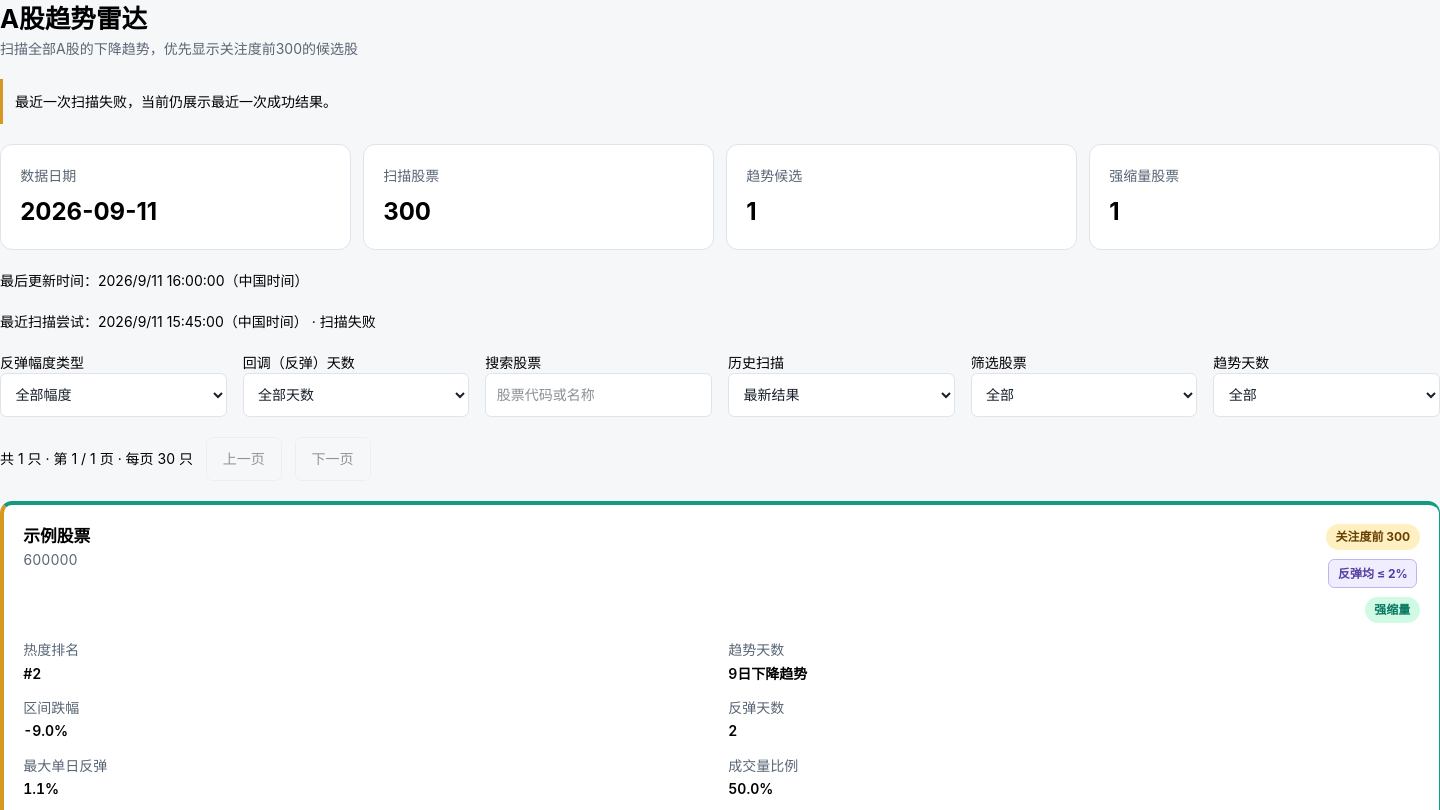
Scenario: Trend Radar › keeps the last successful dataset when the latest scan fails, with Chinese labels
Expected: the link "示例股票" is shown, x1=23 y1=526 x2=90 y2=546
Expected: the text "最近一次扫描失败，当前仍展示最近一次成功结果。" is shown, x1=0 y1=79 x2=1439 y2=124
Select "7日趋势" in the dropdown labelled "趋势天数" at (1327, 395), box x1=1213 y1=373 x2=1439 y2=417
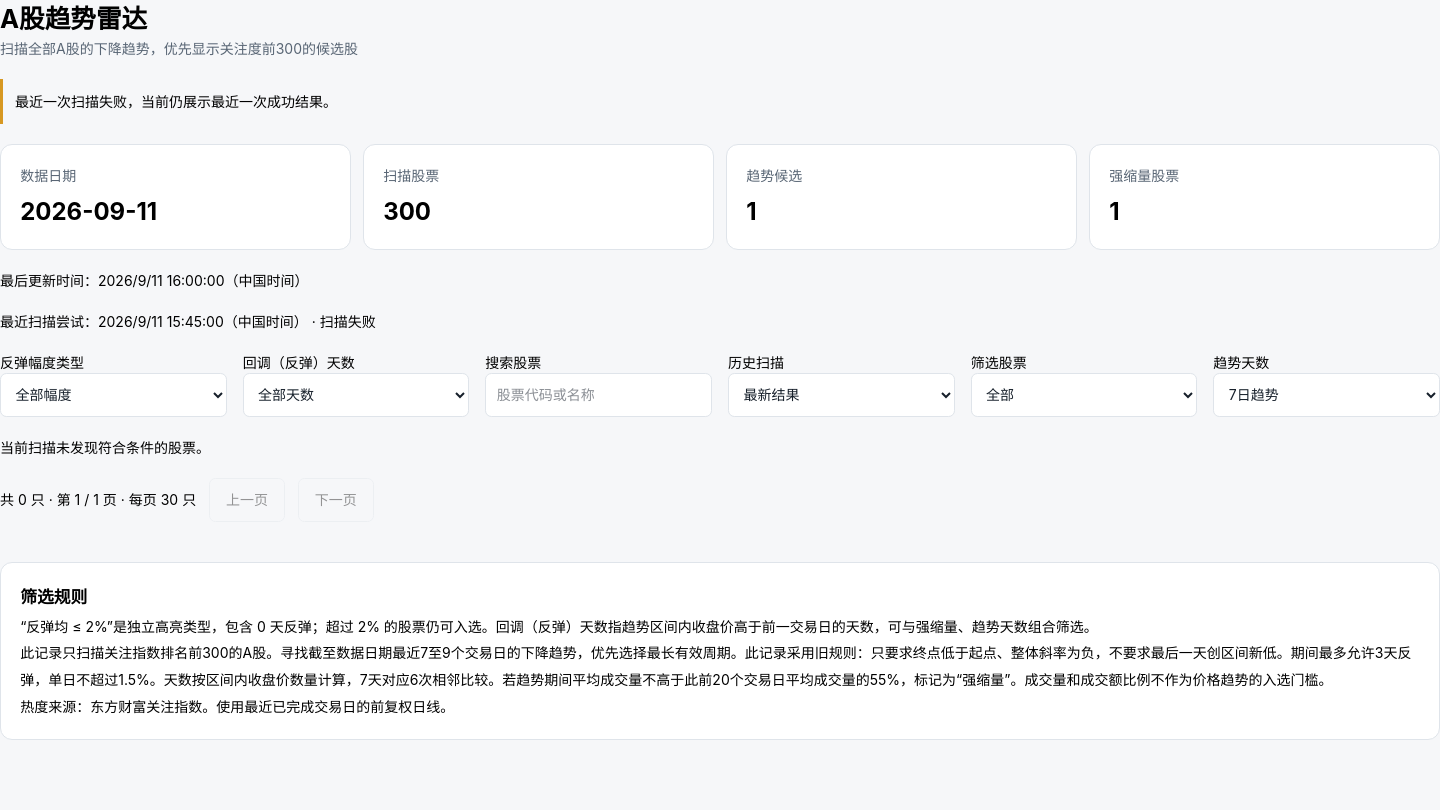
Result: the text "当前扫描未发现符合条件的股票。" is shown at x1=0 y1=439 x2=210 y2=456
